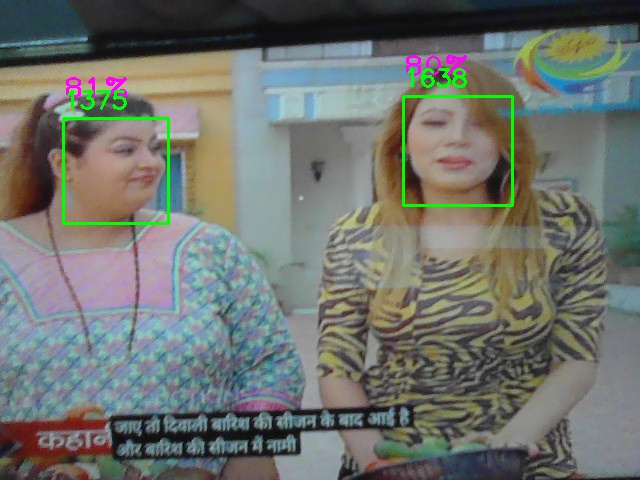fake: (403, 96, 513, 206), (63, 118, 169, 224)
